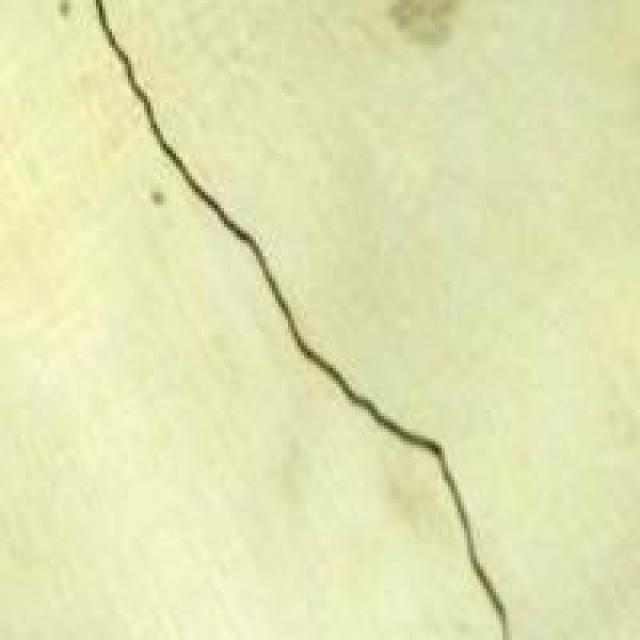Crack: (94, 1, 524, 638)
